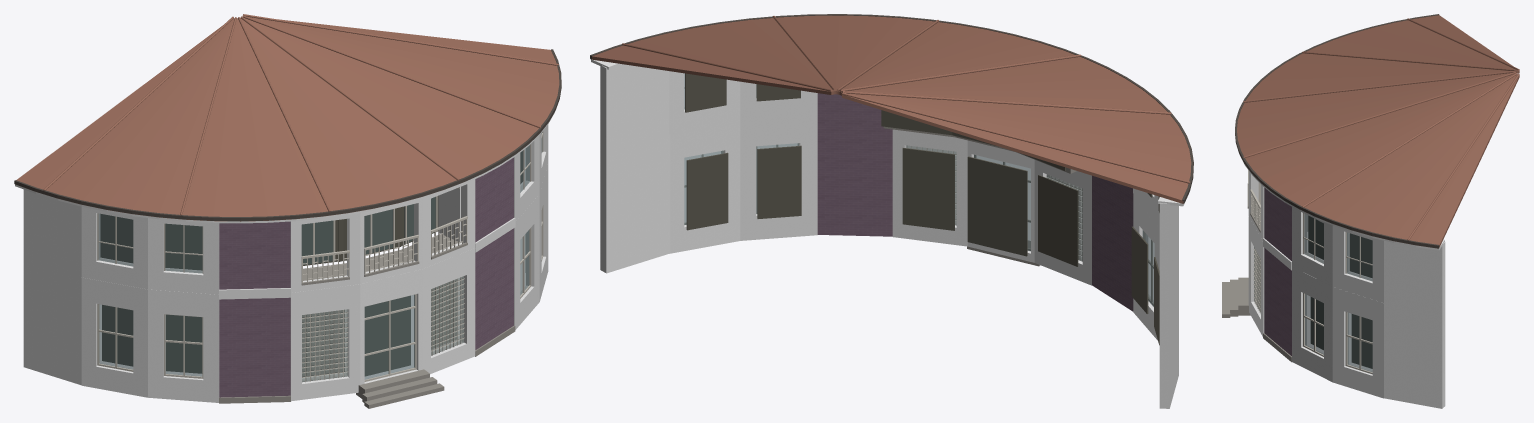
Rendered from changning-xinhua-329-no36-cake-villa-raw.glb.
The picture shows the model from 3 angles, left to right: view 1: azimuth 30°, elevation 25°; view 2: azimuth 150°, elevation 25°; view 3: azimuth 270°, elevation 25°; orthographic projection. The views are drawn at different scales.
Visible parts, largest first — view 1: 新华路329弄36号双层圆形住宅庭院立面; view 2: 新华路329弄36号双层圆形住宅庭院立面; view 3: 新华路329弄36号双层圆形住宅庭院立面.
Part boxes in pixels (left/top/right/bottom): 新华路329弄36号双层圆形住宅庭院立面: left=14, top=14, right=561, bottom=408; 新华路329弄36号双层圆形住宅庭院立面: left=590, top=14, right=1193, bottom=408; 新华路329弄36号双层圆形住宅庭院立面: left=1222, top=14, right=1519, bottom=408.
Bounding box in the file's own units: 19 × 8.8 × 10.31.
Materials: 9 (2 with a texture image).
